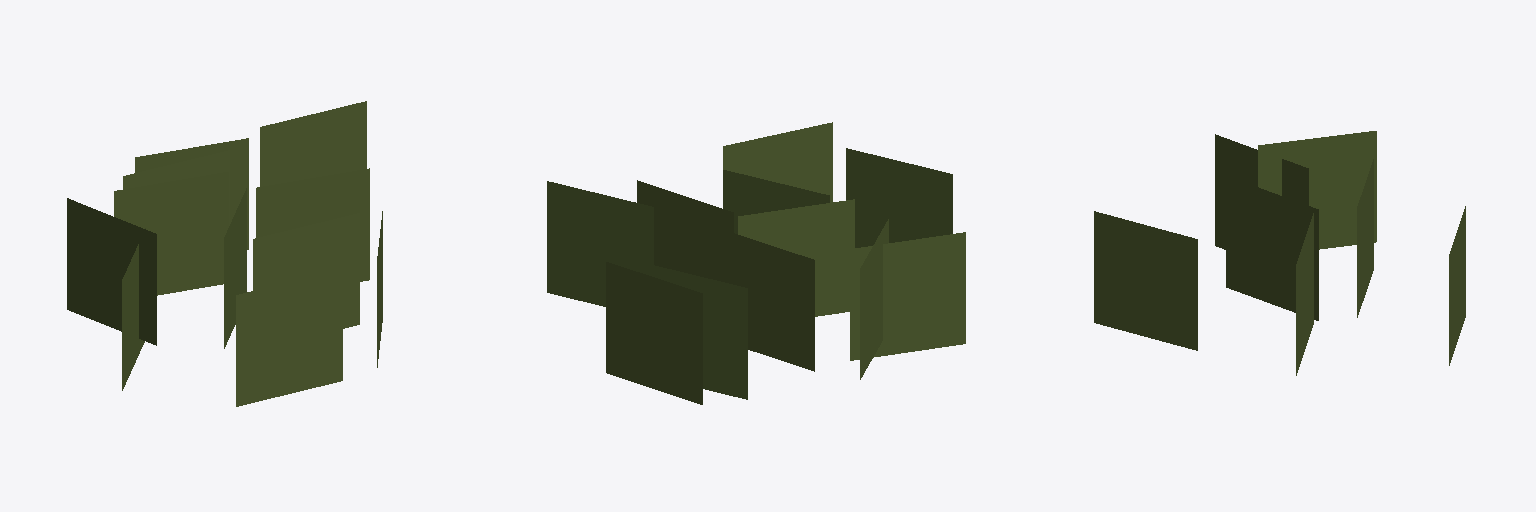
The model's file is grass.obj.
3 views of the same model, side by side, from view 1: azimuth 30°, elevation 25°; view 2: azimuth 150°, elevation 25°; view 3: azimuth 270°, elevation 25° (orthographic).
Visible parts, largest first — view 1: Mesh7 Group_22_7 Model, Mesh10 Group_22_10 Model, Mesh1 Group_22_1 Model, Mesh4 Group_22_4 Model, Mesh8 Group_22_8 Model, Mesh3 Group_22_3 Model, Mesh9 Group_22_9 Model, Mesh2 Group_22_2 Model, Mesh11 Group_22_11 Model, Mesh5 Group_22_5 Model, Mesh6 Group_22_6 Model; view 2: Mesh9 Group_22_9 Model, Mesh11 Group_22_11 Model, Mesh4 Group_22_4 Model, Mesh10 Group_22_10 Model, Mesh7 Group_22_7 Model, Mesh2 Group_22_2 Model, Mesh5 Group_22_5 Model, Mesh3 Group_22_3 Model, Mesh6 Group_22_6 Model, Mesh8 Group_22_8 Model, Mesh1 Group_22_1 Model; view 3: Mesh6 Group_22_6 Model, Mesh2 Group_22_2 Model, Mesh1 Group_22_1 Model, Mesh11 Group_22_11 Model, Mesh3 Group_22_3 Model, Mesh9 Group_22_9 Model, Mesh10 Group_22_10 Model.
Part boxes in pixels (x1,y1,x2,y2): Mesh7 Group_22_7 Model: (236, 269, 342, 406); Mesh10 Group_22_10 Model: (114, 172, 228, 295); Mesh1 Group_22_1 Model: (67, 198, 156, 345); Mesh4 Group_22_4 Model: (260, 101, 366, 186); Mesh8 Group_22_8 Model: (253, 213, 359, 328); Mesh3 Group_22_3 Model: (256, 168, 369, 281); Mesh9 Group_22_9 Model: (135, 138, 248, 249); Mesh2 Group_22_2 Model: (224, 188, 246, 348); Mesh11 Group_22_11 Model: (122, 228, 145, 390); Mesh5 Group_22_5 Model: (123, 150, 229, 225); Mesh6 Group_22_6 Model: (377, 211, 382, 367); Mesh9 Group_22_9 Model: (606, 262, 702, 404); Mesh11 Group_22_11 Model: (850, 232, 965, 360); Mesh4 Group_22_4 Model: (547, 181, 653, 306); Mesh10 Group_22_10 Model: (718, 228, 814, 371); Mesh7 Group_22_7 Model: (846, 148, 952, 247); Mesh2 Group_22_2 Model: (738, 199, 854, 316); Mesh5 Group_22_5 Model: (641, 262, 747, 399); Mesh3 Group_22_3 Model: (637, 180, 733, 280); Mesh6 Group_22_6 Model: (723, 122, 832, 202); Mesh8 Group_22_8 Model: (723, 170, 829, 233); Mesh1 Group_22_1 Model: (860, 219, 888, 379); Mesh6 Group_22_6 Model: (1094, 211, 1197, 350); Mesh2 Group_22_2 Model: (1226, 176, 1318, 320); Mesh1 Group_22_1 Model: (1258, 131, 1376, 249); Mesh11 Group_22_11 Model: (1215, 134, 1308, 249); Mesh3 Group_22_3 Model: (1296, 213, 1313, 375); Mesh9 Group_22_9 Model: (1449, 206, 1465, 365); Mesh10 Group_22_10 Model: (1357, 159, 1373, 317).
Size of the model in its own units: 4.92 by 2.11 by 4.77.